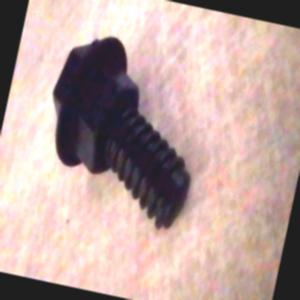parafuso: (24, 21, 220, 239)
